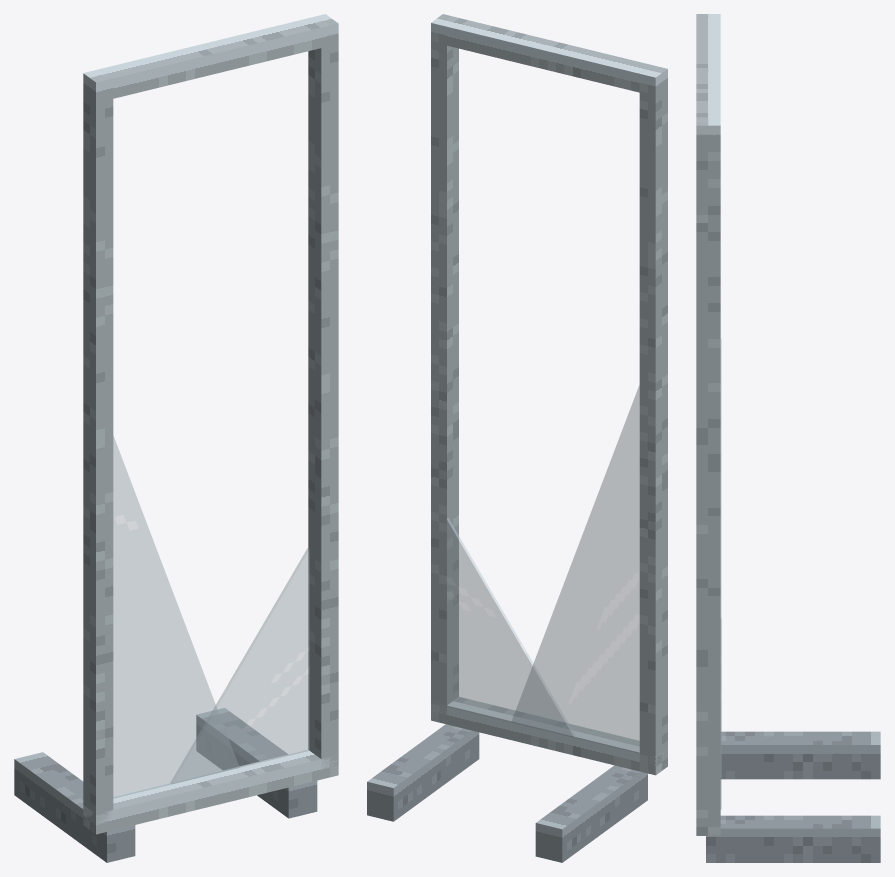
The model's file is f_bigmirror_b.glb.
3 views of the same model, side by side, from view 1: azimuth 30°, elevation 25°; view 2: azimuth 150°, elevation 25°; view 3: azimuth 270°, elevation 25° (orthographic). The views are drawn at different scales.
Visible parts, largest first — view 1: block_frame-side--0.26, block_mirror-shard--0.24000000000000002, block_frame-side-0.26, block_mirror-shard-0.24000000000000002, block_frame-end-1.615, block_frame-end-0, block_foot--0.21, block_foot-0.21; view 2: block_mirror-shard--0.24000000000000002, block_frame-side--0.26, block_frame-side-0.26, block_mirror-shard-0.24000000000000002, block_frame-end-1.615, block_frame-end-0, block_foot--0.21, block_foot-0.21; view 3: block_frame-side-0.26, block_foot-0.21, block_foot--0.21, block_frame-end-1.615, block_mirror-shard--0.24000000000000002.
Boxes of the visible parts, bbox=[...] form: block_frame-side--0.26: bbox=[83, 69, 113, 834]; block_mirror-shard--0.24000000000000002: bbox=[113, 436, 239, 798]; block_frame-side-0.26: bbox=[308, 14, 338, 778]; block_mirror-shard-0.24000000000000002: bbox=[171, 548, 309, 783]; block_frame-end-1.615: bbox=[83, 14, 338, 102]; block_frame-end-0: bbox=[83, 750, 337, 834]; block_foot--0.21: bbox=[14, 752, 135, 862]; block_foot-0.21: bbox=[196, 708, 317, 818]; block_mirror-shard--0.24000000000000002: bbox=[511, 385, 639, 753]; block_frame-side--0.26: bbox=[639, 65, 667, 775]; block_frame-side-0.26: bbox=[431, 14, 458, 724]; block_mirror-shard-0.24000000000000002: bbox=[446, 518, 575, 737]; block_frame-end-1.615: bbox=[431, 15, 667, 95]; block_frame-end-0: bbox=[431, 697, 667, 774]; block_foot--0.21: bbox=[535, 765, 647, 862]; block_foot-0.21: bbox=[367, 724, 479, 821]; block_frame-side-0.26: bbox=[696, 117, 720, 835]; block_foot-0.21: bbox=[706, 815, 880, 862]; block_foot--0.21: bbox=[720, 731, 880, 779]; block_frame-end-1.615: bbox=[696, 14, 720, 144]; block_mirror-shard--0.24000000000000002: bbox=[720, 339, 721, 776].
Bounding box in the file's own units: 0.56 × 1.74 × 0.391.
Materials: 2 (2 with a texture image).
